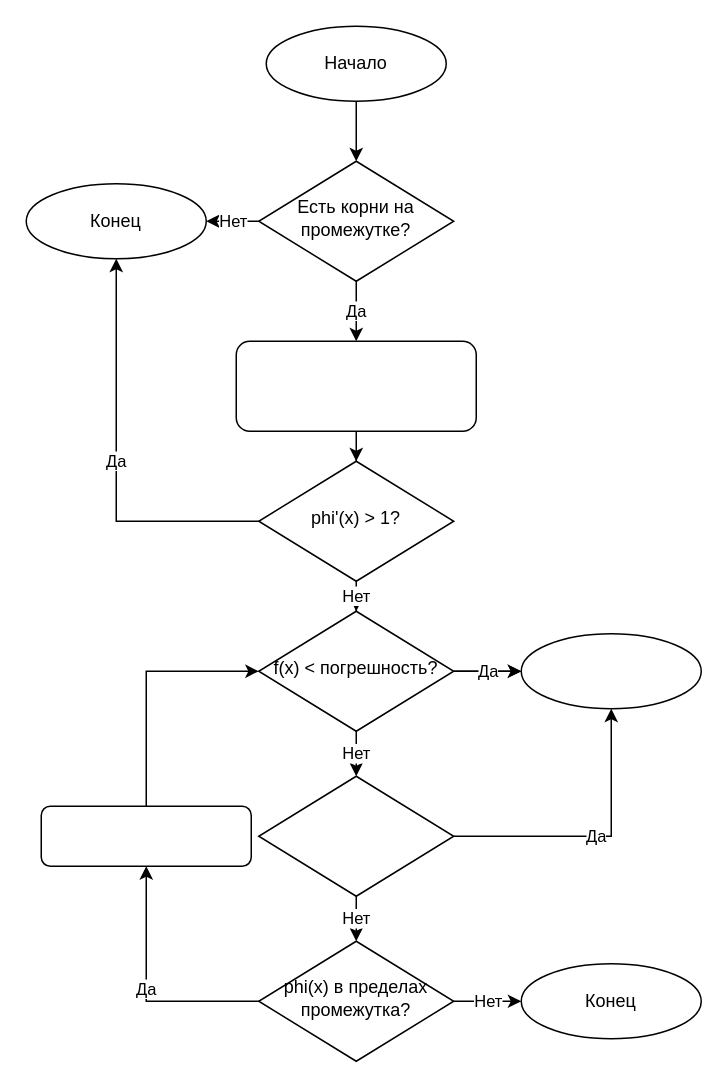
Some shapes in this 728 by 1088 pixel diagram are drawn without their labels. Here are the shapes that lost their labels. From the top down, the box of each, then its label:
(235, 340, 476, 431): Посчитать lamda phi(x) = x + lambda * f(x) x = левая/правая граница
(520, 632, 701, 709): Результат
(40, 805, 251, 866): x = phi(x)
(257, 775, 454, 896): phi(x) - f(x) < погрешность?
